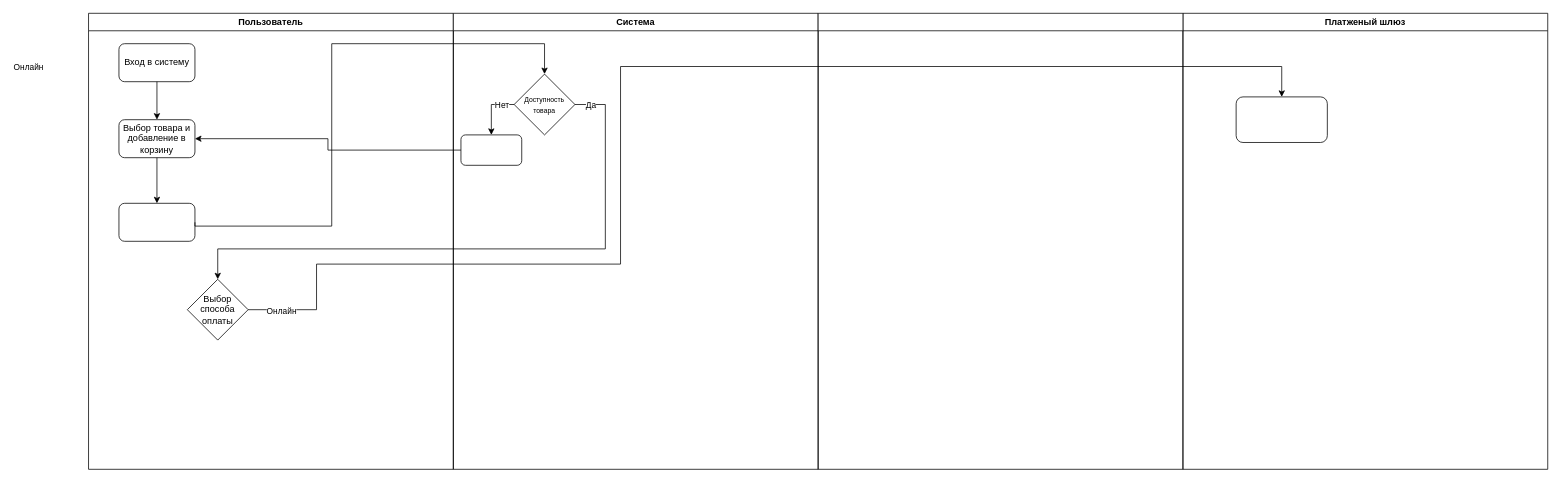
The diagram is 1561 pixels wide and 483 high, and some of its shapes have lost their labels. The shapes that lost their labels are listed below. From the top down, each one's centre as x and y in pixels, then its label:
At point (1281, 119): "Обработка платежа".
At point (491, 149): "Отправка сообщения с предложением изменить корзину".
At point (156, 222): "Подтверждение заказа".
At point (1000, 241): "Склад".
